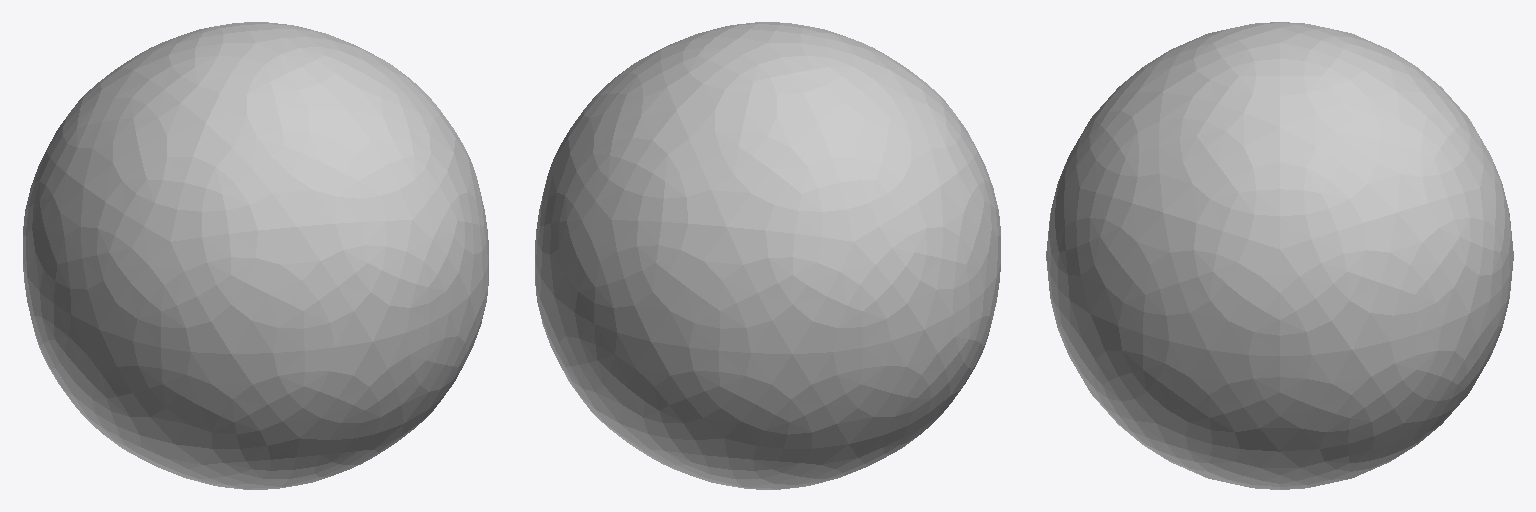
Rendered from ico_sphere_smooth.obj.
3 renders of one model, left to right at view 1: azimuth 30°, elevation 25°; view 2: azimuth 150°, elevation 25°; view 3: azimuth 270°, elevation 25°, orthographic.
Parts seen in each view (by area): view 1: Icosphere; view 2: Icosphere; view 3: Icosphere.
Boxes of the visible parts, box(x1,y1,x2,y2) form: Icosphere: box(23, 22, 488, 489); Icosphere: box(535, 22, 1000, 489); Icosphere: box(1046, 22, 1513, 489).
Size of the model in its own units: 1.85 by 1.86 by 1.85.